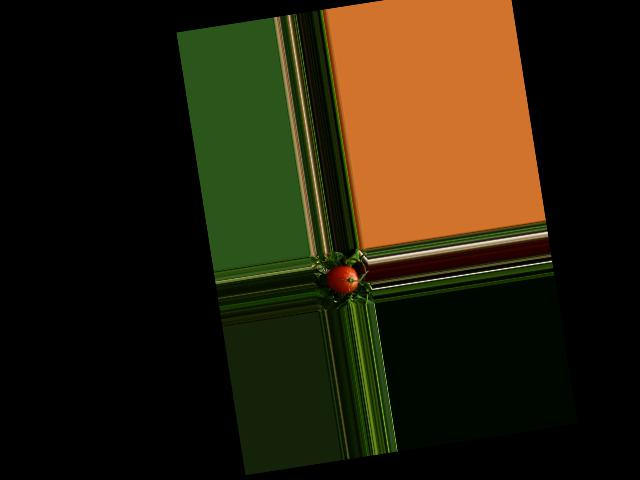tomato: (325, 263, 360, 296)
